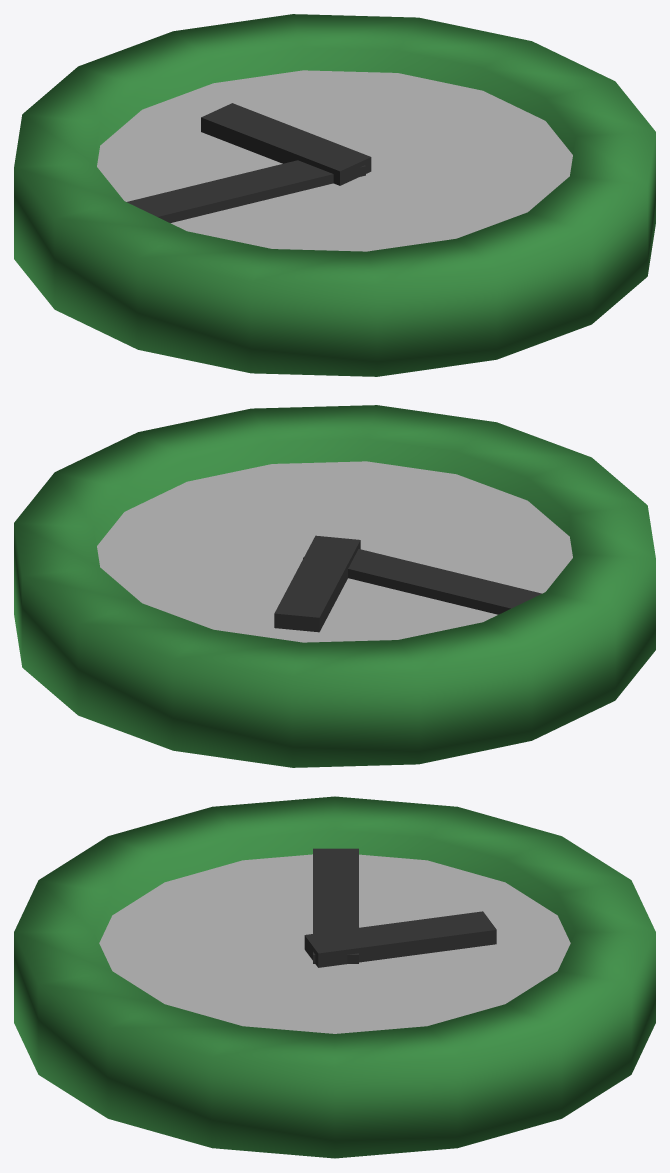
File: clock.fbx
The picture shows the model from 3 angles, top to bottom: view 1: azimuth 30°, elevation 25°; view 2: azimuth 150°, elevation 25°; view 3: azimuth 270°, elevation 25°; orthographic projection.
Visible parts, largest first — view 1: Cylinder; view 2: Cylinder; view 3: Cylinder.
Part boxes in pixels (x1,y1,x2,y2): Cylinder: [14, 14, 655, 376]; Cylinder: [14, 405, 655, 767]; Cylinder: [14, 796, 655, 1158].
Size of the model in its own units: 200 by 31.18 by 200.
